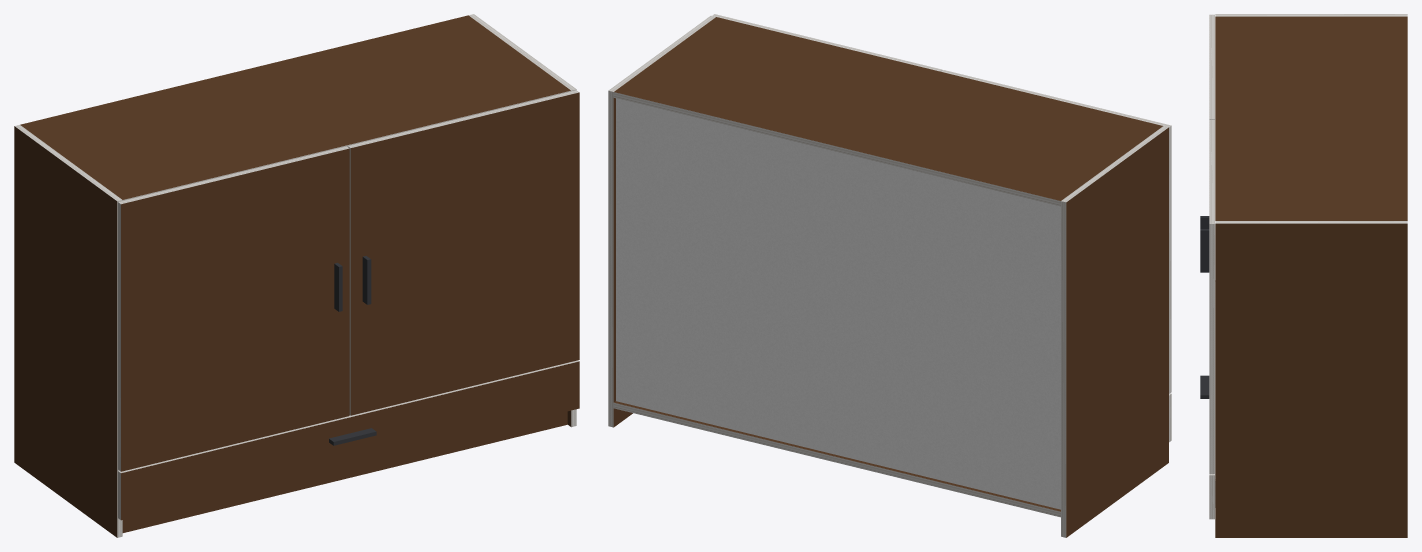
The model's file is ATL-BAR-std.glb.
3 views of the same model, side by side, from view 1: azimuth 30°, elevation 25°; view 2: azimuth 150°, elevation 25°; view 3: azimuth 270°, elevation 25° (orthographic). The views are drawn at different scales.
Visible parts, largest first — view 1: door-r:pbr, door-l:pbr, top:pbr, side-l:pbr, d1-front:pbr, plinth:pbr, pull, d1-front:sheet:eyJtIjoicGx5Iiwic2lkZSI6ImVkZ2UtbG9uZyIsInNlZ, door-l:sheet:eyJtIjoicGx5Iiwic2lkZSI6ImVkZ2UtZW5kIiwic2VlZCI, door-r:sheet:eyJtIjoicGx5Iiwic2lkZSI6ImVkZ2UtZW5kIiwic2VlZCI, door-l:sheet:eyJtIjoicGx5Iiwic2lkZSI6ImVkZ2UtbG9uZyIsInNlZWQ, top:sheet:eyJtIjoicGx5Iiwic2lkZSI6ImVkZ2UtbG9uZyIsInNlZWQiOj; view 2: back:sheet:eyJtIjoibWRmIiwic2lkZSI6ImZhY2UiLCJzZWVkIjoyLCJ0a, top:pbr, side-l:pbr, bottom:sheet:eyJtIjoicGx5Iiwic2lkZSI6ImVkZ2UtbG9uZyIsInNlZWQ, top:sheet:eyJtIjoicGx5Iiwic2lkZSI6ImVkZ2UtbG9uZyIsInNlZWQiOj, side-r:sheet:eyJtIjoicGx5Iiwic2lkZSI6ImVkZ2UtbG9uZyIsInNlZWQ, side-l:sheet:eyJtIjoicGx5Iiwic2lkZSI6ImVkZ2UtbG9uZyIsInNlZWQ, bottom:pbr, side-r:pbr, door-l:sheet:eyJtIjoicGx5Iiwic2lkZSI6ImVkZ2UtbG9uZyIsInNlZWQ, door-r:sheet:eyJtIjoicGx5Iiwic2lkZSI6ImVkZ2UtZW5kIiwic2VlZCI, door-l:sheet:eyJtIjoicGx5Iiwic2lkZSI6ImVkZ2UtZW5kIiwic2VlZCI; view 3: side-r:pbr, top:pbr, door-r:sheet:eyJtIjoicGx5Iiwic2lkZSI6ImVkZ2UtbG9uZyIsInNlZWQ, pull, door-l:sheet:eyJtIjoicGx5Iiwic2lkZSI6ImVkZ2UtZW5kIiwic2VlZCI, door-r:sheet:eyJtIjoicGx5Iiwic2lkZSI6ImVkZ2UtZW5kIiwic2VlZCI, side-l:sheet:eyJtIjoicGx5Iiwic2lkZSI6ImVkZ2UtZW5kIiwic2VlZCI, side-r:sheet:eyJtIjoicGx5Iiwic2lkZSI6ImVkZ2UtZW5kIiwic2VlZCI, d1-front:sheet:eyJtIjoicGx5Iiwic2lkZSI6ImVkZ2UtZW5kIiwic2VlZ.
Boxes of the visible parts, left/top/right/bottom form: door-r:pbr: left=350, top=92, right=579, bottom=415; door-l:pbr: left=121, top=148, right=349, bottom=471; top:pbr: left=20, top=15, right=570, bottom=199; side-l:pbr: left=14, top=126, right=117, bottom=537; d1-front:pbr: left=121, top=361, right=579, bottom=520; plinth:pbr: left=122, top=411, right=567, bottom=532; pull: left=329, top=256, right=376, bottom=445; d1-front:sheet:eyJtIjoicGx5Iiwic2lkZSI6ImVkZ2UtbG9uZyIsInNlZ: left=118, top=360, right=578, bottom=472; door-l:sheet:eyJtIjoicGx5Iiwic2lkZSI6ImVkZ2UtZW5kIiwic2VlZCI: left=118, top=146, right=349, bottom=204; door-r:sheet:eyJtIjoicGx5Iiwic2lkZSI6ImVkZ2UtZW5kIiwic2VlZCI: left=348, top=90, right=579, bottom=147; door-l:sheet:eyJtIjoicGx5Iiwic2lkZSI6ImVkZ2UtbG9uZyIsInNlZWQ: left=118, top=202, right=120, bottom=471; top:sheet:eyJtIjoicGx5Iiwic2lkZSI6ImVkZ2UtbG9uZyIsInNlZWQiOj: left=122, top=90, right=570, bottom=200; back:sheet:eyJtIjoibWRmIiwic2lkZSI6ImZhY2UiLCJzZWVkIjoyLCJ0a: left=616, top=98, right=1060, bottom=509; top:pbr: left=614, top=17, right=1162, bottom=200; side-l:pbr: left=1066, top=127, right=1168, bottom=537; bottom:sheet:eyJtIjoicGx5Iiwic2lkZSI6ImVkZ2UtbG9uZyIsInNlZWQ: left=613, top=402, right=1060, bottom=517; top:sheet:eyJtIjoicGx5Iiwic2lkZSI6ImVkZ2UtbG9uZyIsInNlZWQiOj: left=613, top=92, right=1060, bottom=206; side-r:sheet:eyJtIjoicGx5Iiwic2lkZSI6ImVkZ2UtbG9uZyIsInNlZWQ: left=608, top=90, right=613, bottom=427; side-l:sheet:eyJtIjoicGx5Iiwic2lkZSI6ImVkZ2UtbG9uZyIsInNlZWQ: left=1061, top=201, right=1066, bottom=537; bottom:pbr: left=614, top=401, right=1060, bottom=511; side-r:pbr: left=613, top=98, right=632, bottom=427; door-l:sheet:eyJtIjoicGx5Iiwic2lkZSI6ImVkZ2UtbG9uZyIsInNlZWQ: left=1169, top=126, right=1171, bottom=393; door-r:sheet:eyJtIjoicGx5Iiwic2lkZSI6ImVkZ2UtZW5kIiwic2VlZCI: left=712, top=14, right=941, bottom=71; door-l:sheet:eyJtIjoicGx5Iiwic2lkZSI6ImVkZ2UtZW5kIiwic2VlZCI: left=941, top=70, right=1171, bottom=127; side-r:pbr: left=1215, top=223, right=1407, bottom=537; top:pbr: left=1215, top=16, right=1407, bottom=220; door-r:sheet:eyJtIjoicGx5Iiwic2lkZSI6ImVkZ2UtbG9uZyIsInNlZWQ: left=1209, top=224, right=1214, bottom=473; pull: left=1200, top=216, right=1209, bottom=398; door-l:sheet:eyJtIjoicGx5Iiwic2lkZSI6ImVkZ2UtZW5kIiwic2VlZCI: left=1209, top=14, right=1214, bottom=118; door-r:sheet:eyJtIjoicGx5Iiwic2lkZSI6ImVkZ2UtZW5kIiwic2VlZCI: left=1209, top=119, right=1214, bottom=223; side-l:sheet:eyJtIjoicGx5Iiwic2lkZSI6ImVkZ2UtZW5kIiwic2VlZCI: left=1215, top=14, right=1407, bottom=16; side-r:sheet:eyJtIjoicGx5Iiwic2lkZSI6ImVkZ2UtZW5kIiwic2VlZCI: left=1215, top=221, right=1407, bottom=223; d1-front:sheet:eyJtIjoicGx5Iiwic2lkZSI6ImVkZ2UtZW5kIiwic2VlZ: left=1209, top=475, right=1214, bottom=519.
Bounding box in the file's own units: 1.5 × 1.05 × 0.6271.
Materials: 55 (42 with a texture image).
